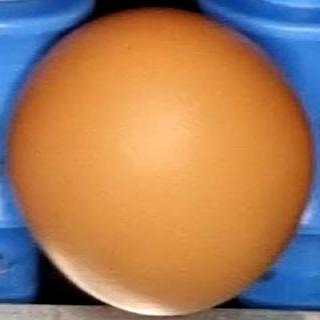Telur: (12, 9, 314, 315)
